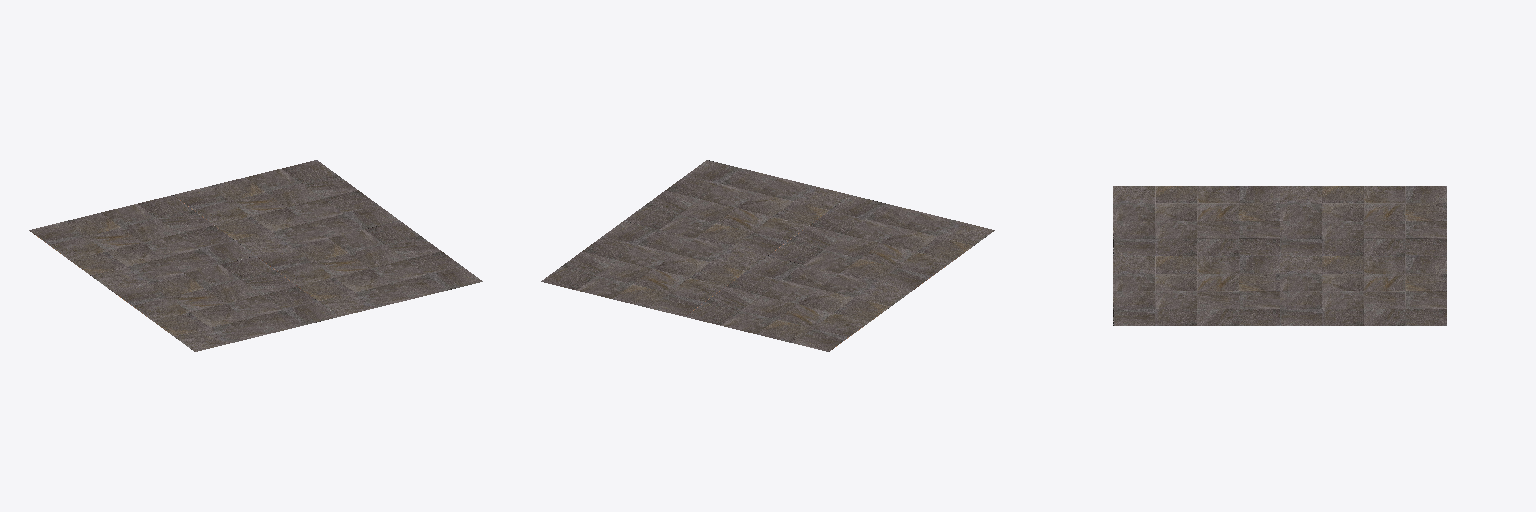
3 renders of one model, left to right at view 1: azimuth 30°, elevation 25°; view 2: azimuth 150°, elevation 25°; view 3: azimuth 270°, elevation 25°, orthographic.
Parts seen in each view (by area): view 1: Floor; view 2: Floor; view 3: Floor.
Boxes of the visible parts, x1=… form: Floor: x1=29, y1=160, x2=482, y2=351; Floor: x1=541, y1=160, x2=994, y2=351; Floor: x1=1113, y1=186, x2=1446, y2=325.
Bounding box in the file's own units: 2 × 0 × 2.
Materials: 1 (1 with a texture image).